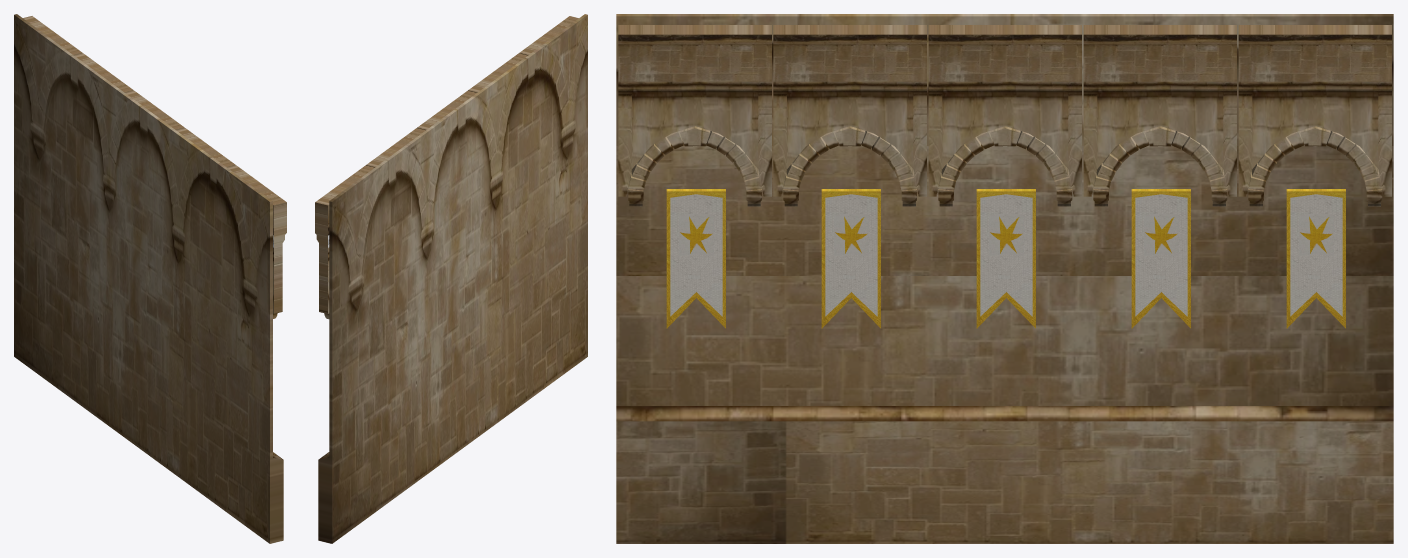
The model's file is wall background.glb.
The picture shows the model from 3 angles, left to right: view 1: azimuth 30°, elevation 25°; view 2: azimuth 150°, elevation 25°; view 3: azimuth 270°, elevation 25°; orthographic projection. The views are drawn at different scales.
Visible parts, largest first — view 1: Cube.002, Cube.001; view 2: Cube.002, Cube.001; view 3: Cube.002, Cube.001, Cube.
Part boxes in pixels (box(x1,y1,x2,y2)): Cube.002: box(14, 14, 283, 543); Cube.001: box(23, 16, 286, 318); Cube.002: box(318, 14, 587, 543); Cube.001: box(315, 16, 578, 319); Cube.002: box(616, 14, 1393, 543); Cube.001: box(618, 25, 1391, 206); Cube: box(666, 189, 1345, 328).
Size of the model in its own units: 3.95 by 73.43 by 99.51.
2 materials, 2 textured.
